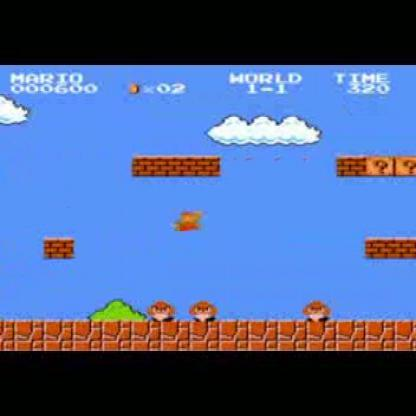Goomba: (305, 297, 335, 324), (190, 298, 218, 324), (148, 298, 175, 324)
